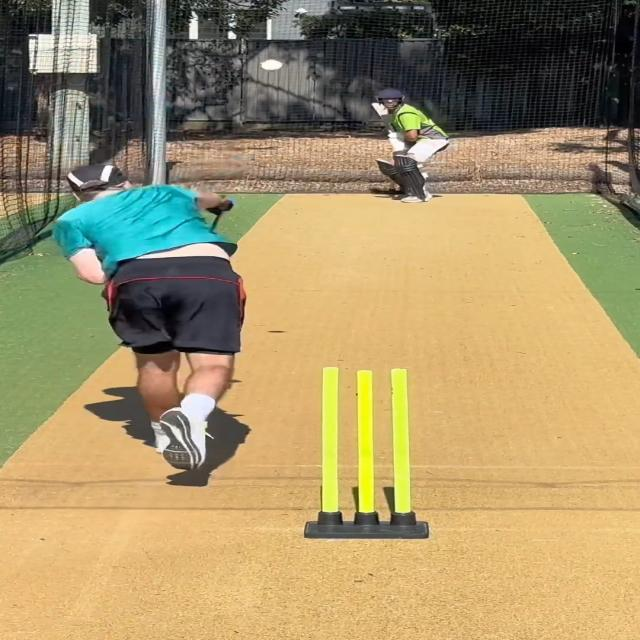ball: (258, 58, 284, 73)
stump: (303, 365, 429, 538)
